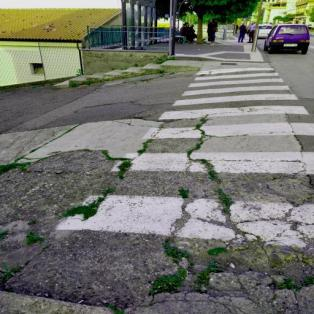Paso de Cebra: (147, 94, 312, 122), (183, 70, 289, 89)
